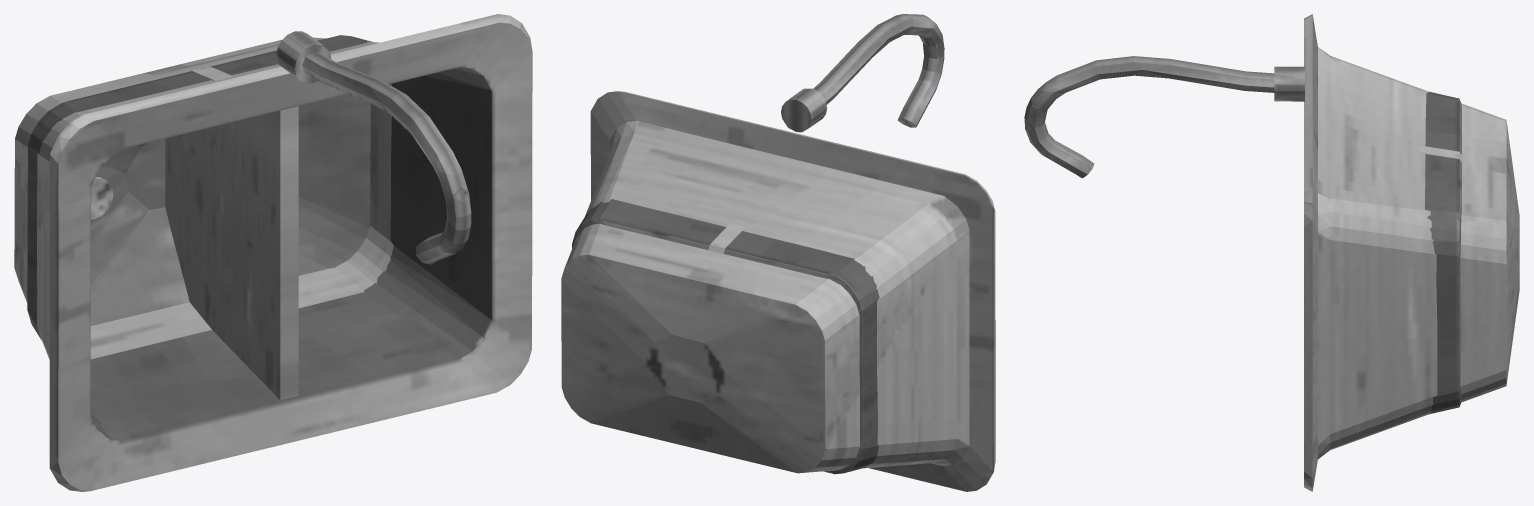
File: pz_sink_inset_chrome.obj
The picture shows the model from 3 angles, left to right: view 1: azimuth 30°, elevation 25°; view 2: azimuth 150°, elevation 25°; view 3: azimuth 270°, elevation 25°; orthographic projection. The views are drawn at different scales.
Visible parts, largest first — view 1: pz_sink_inset_chrome_|_open_bowl_and_overhanging_rim, native_double_basin_divider, pz_sink_inset_chrome_|_EDITABLE_arched_faucet, pz_sink_inset_chrome_|_faucet_socket, pz_sink_inset_chrome_|_drain_disc; view 2: pz_sink_inset_chrome_|_open_bowl_and_overhanging_rim, pz_sink_inset_chrome_|_EDITABLE_arched_faucet, pz_sink_inset_chrome_|_faucet_socket, native_double_basin_divider; view 3: pz_sink_inset_chrome_|_open_bowl_and_overhanging_rim, pz_sink_inset_chrome_|_EDITABLE_arched_faucet, pz_sink_inset_chrome_|_faucet_socket.
Part boxes in pixels (box(x1,y1,x2,y2)): pz_sink_inset_chrome_|_open_bowl_and_overhanging_rim: box(14, 14, 532, 491); native_double_basin_divider: box(165, 66, 298, 400); pz_sink_inset_chrome_|_EDITABLE_arched_faucet: box(302, 51, 471, 264); pz_sink_inset_chrome_|_faucet_socket: box(276, 31, 331, 83); pz_sink_inset_chrome_|_drain_disc: box(91, 177, 113, 219); pz_sink_inset_chrome_|_open_bowl_and_overhanging_rim: box(561, 91, 995, 491); pz_sink_inset_chrome_|_EDITABLE_arched_faucet: box(813, 14, 944, 127); pz_sink_inset_chrome_|_faucet_socket: box(781, 88, 827, 132); native_double_basin_divider: box(708, 223, 745, 253); pz_sink_inset_chrome_|_open_bowl_and_overhanging_rim: box(1304, 14, 1519, 491); pz_sink_inset_chrome_|_EDITABLE_arched_faucet: box(1024, 56, 1274, 178); pz_sink_inset_chrome_|_faucet_socket: box(1274, 66, 1304, 101).
Size of the model in its own units: 0.5241 by 0.4461 by 0.5696.
1 material, 1 textured.
